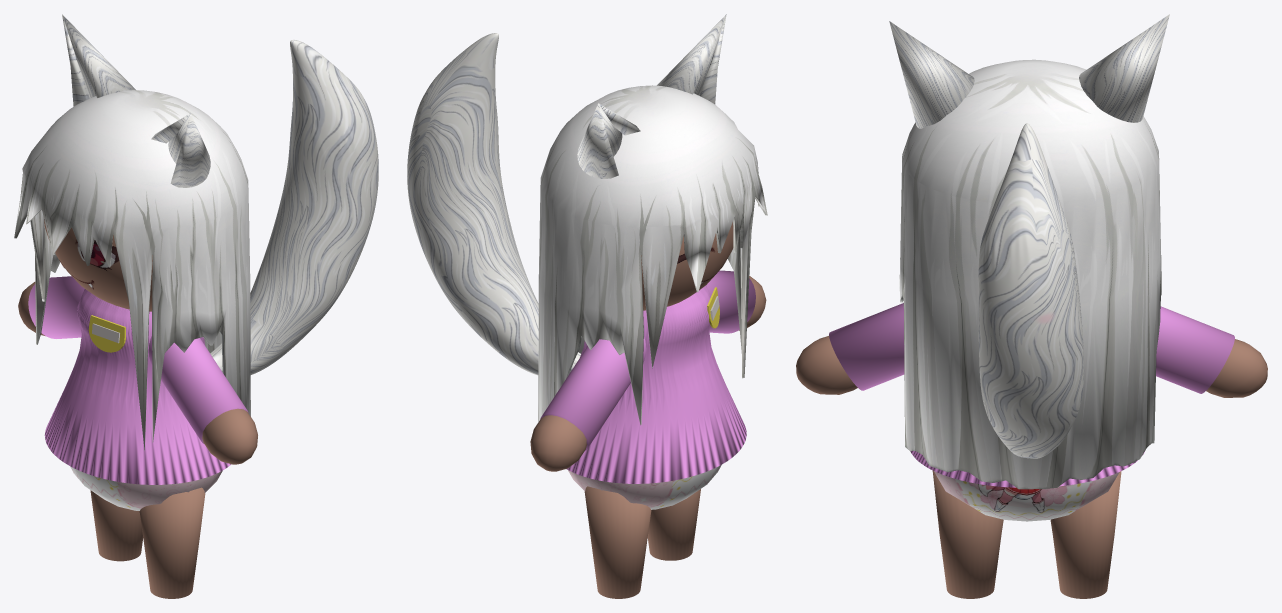
File: diaperdollbirbie.glb
3 views of the same model, side by side, from view 1: azimuth 30°, elevation 25°; view 2: azimuth 150°, elevation 25°; view 3: azimuth 270°, elevation 25° (orthographic). The views are drawn at different scales.
Visible parts, largest first — view 1: head.001, Cylinder.002, head, head.002, Cone, Cone.001, Cylinder; view 2: head.001, Cylinder.002, head, head.002, Cone, Cone.001; view 3: head.001, head, Cylinder.002, Cone, Cone.001, head.002.
Part boxes in pixels (x1,y1,x2,y2): head.001: (14, 90, 250, 450); Cylinder.002: (210, 40, 378, 374); head: (18, 219, 257, 598); head.002: (44, 289, 230, 484); Cone: (62, 14, 135, 106); Cone.001: (151, 113, 210, 187); Cylinder: (88, 315, 125, 352); head.001: (538, 85, 767, 425); Cylinder.002: (407, 33, 580, 375); head: (530, 222, 766, 598); head.002: (566, 285, 746, 483); Cone: (577, 103, 640, 178); Cone.001: (657, 14, 726, 104); head.001: (899, 59, 1161, 489); head: (796, 303, 1267, 598); Cylinder.002: (978, 123, 1084, 458); Cone: (1079, 14, 1169, 122); Cone.001: (889, 21, 974, 128); head.002: (910, 451, 1144, 487).
Bounding box in the file's own units: 4.15 × 6.27 × 4.75.
Materials: 8 (4 with a texture image).
